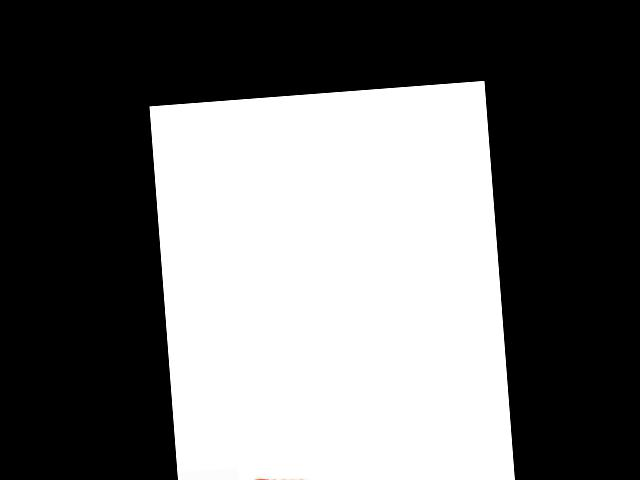carrot: (249, 471, 316, 480)
